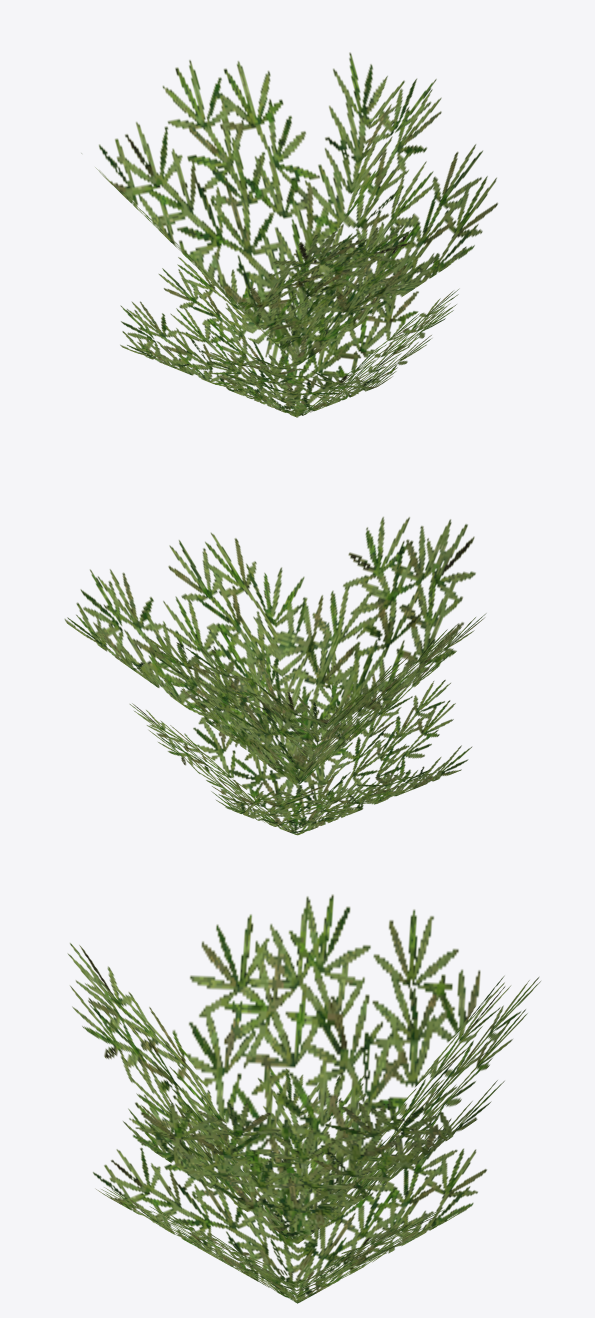
File: plant-19.glb
3 renders of one model, top to bottom at view 1: azimuth 30°, elevation 25°; view 2: azimuth 150°, elevation 25°; view 3: azimuth 270°, elevation 25°, orthographic. The views are drawn at different scales.
Parts seen in each view (by area): view 1: bush_dese_a_1; view 2: bush_dese_a_1; view 3: bush_dese_a_1.
Part boxes in pixels (x1,y1,x2,y2): bush_dese_a_1: [81, 52, 497, 417]; bush_dese_a_1: [64, 516, 486, 835]; bush_dese_a_1: [67, 894, 540, 1303].
Bounding box in the file's own units: 7.57 × 4.81 × 7.57.
1 material, 1 textured.
